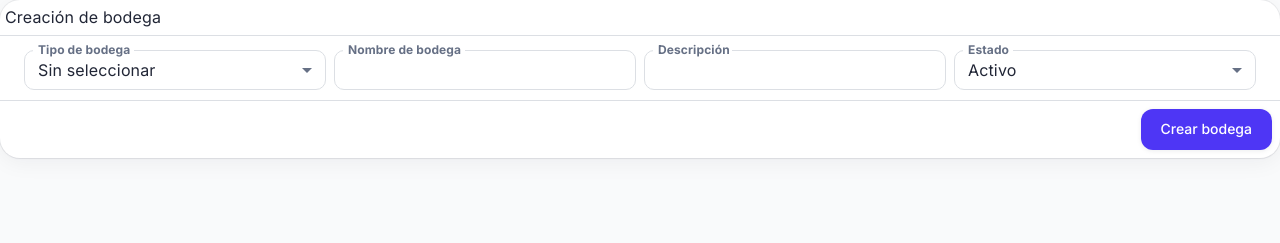
Test: FormularioCrearBodega › carga tipos de bodega y solo los estados Activo/Inactivo
The image size is (1280, 243).
Click the dropdown labelled "Activo": (992, 70) [968, 60, 1016, 80]
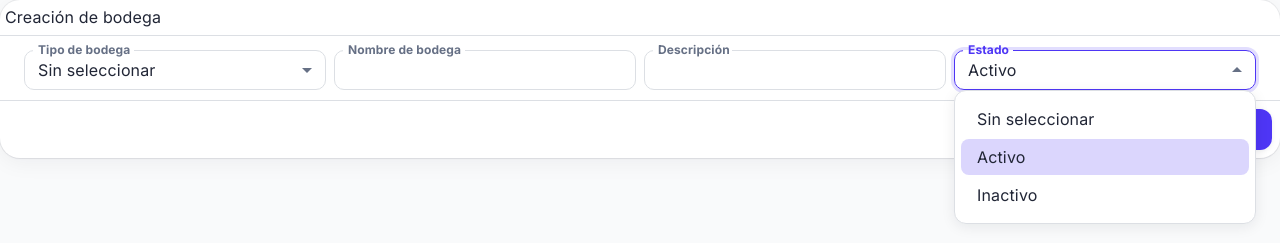
Check: the option "Inactivo" is shown, box [977, 185, 1038, 205]
Check: the options read "Sin seleccionar", "Activo", "Inactivo", in this order, box [977, 109, 1094, 129]; [961, 139, 1249, 175]; [977, 185, 1038, 205]
